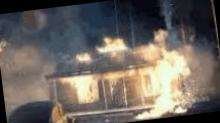Fire: (142, 47, 186, 111)
Smoke: (0, 4, 90, 77), (171, 32, 220, 102)
